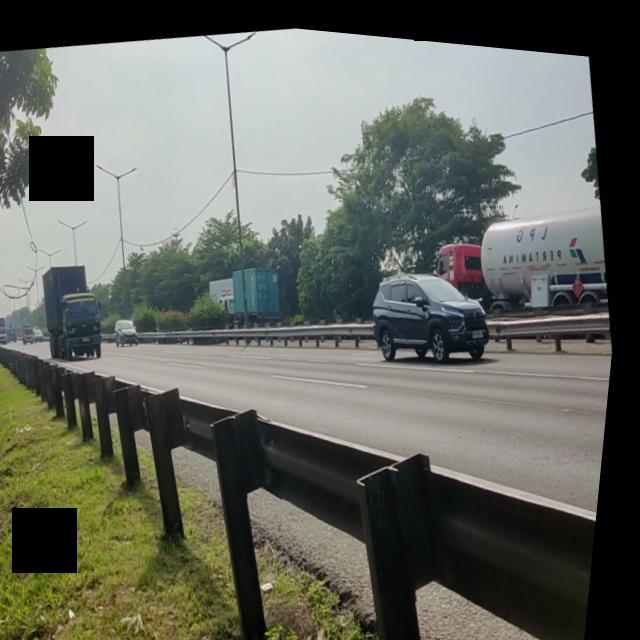Golongan I: (364, 244, 507, 373)
